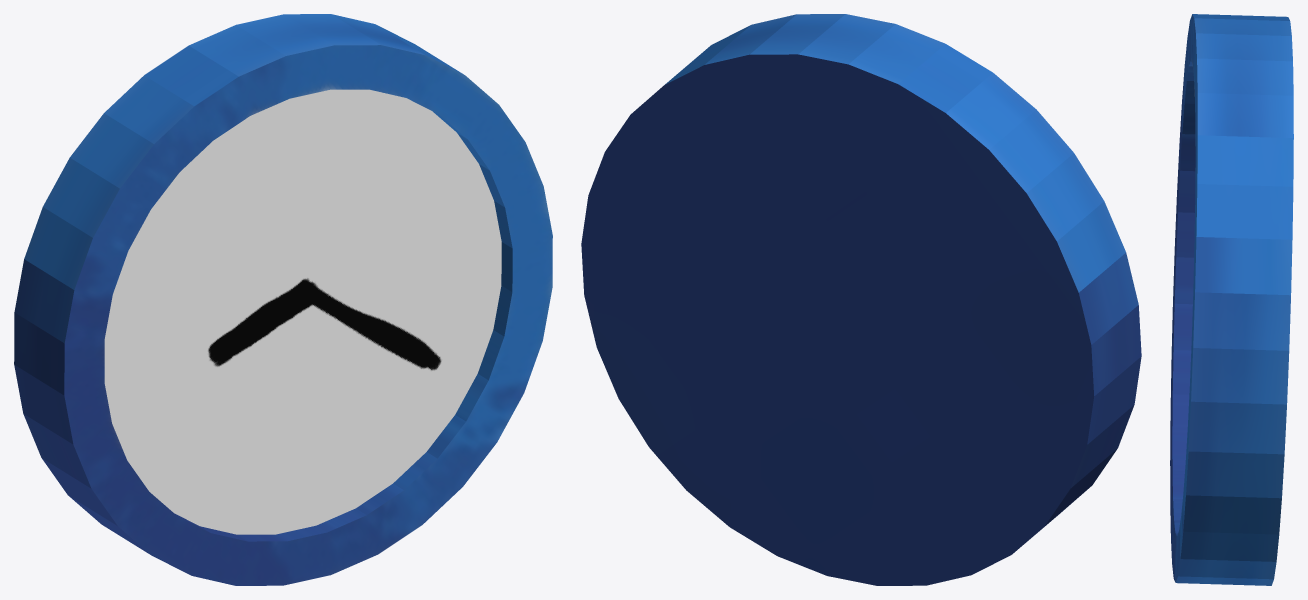
File: myclock.glb
3 renders of one model, left to right at view 1: azimuth 30°, elevation 25°; view 2: azimuth 150°, elevation 25°; view 3: azimuth 270°, elevation 25°, orthographic. The views are drawn at different scales.
Parts seen in each view (by area): view 1: jam; view 2: jam; view 3: jam.
Boxes of the visible parts, x1=… form: jam: x1=14, y1=14, x2=552, y2=585; jam: x1=581, y1=14, x2=1141, y2=585; jam: x1=1170, y1=14, x2=1293, y2=585.
Bounding box in the file's own units: 0.6767 × 0.6787 × 0.1468.
2 materials, 2 textured.
